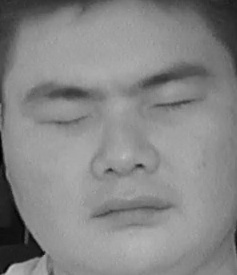blink: (41, 106, 91, 138), (152, 88, 199, 119)
mouth: (92, 186, 174, 234)
